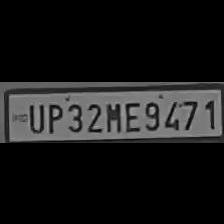1: (200, 95, 218, 129)
2: (83, 98, 103, 132)
3: (63, 100, 83, 132)
4: (160, 96, 180, 130)
7: (178, 96, 198, 130)
9: (141, 97, 161, 130)
E: (122, 97, 140, 131)
M: (102, 98, 122, 132)
P: (44, 99, 64, 133)
U: (24, 100, 44, 132)
